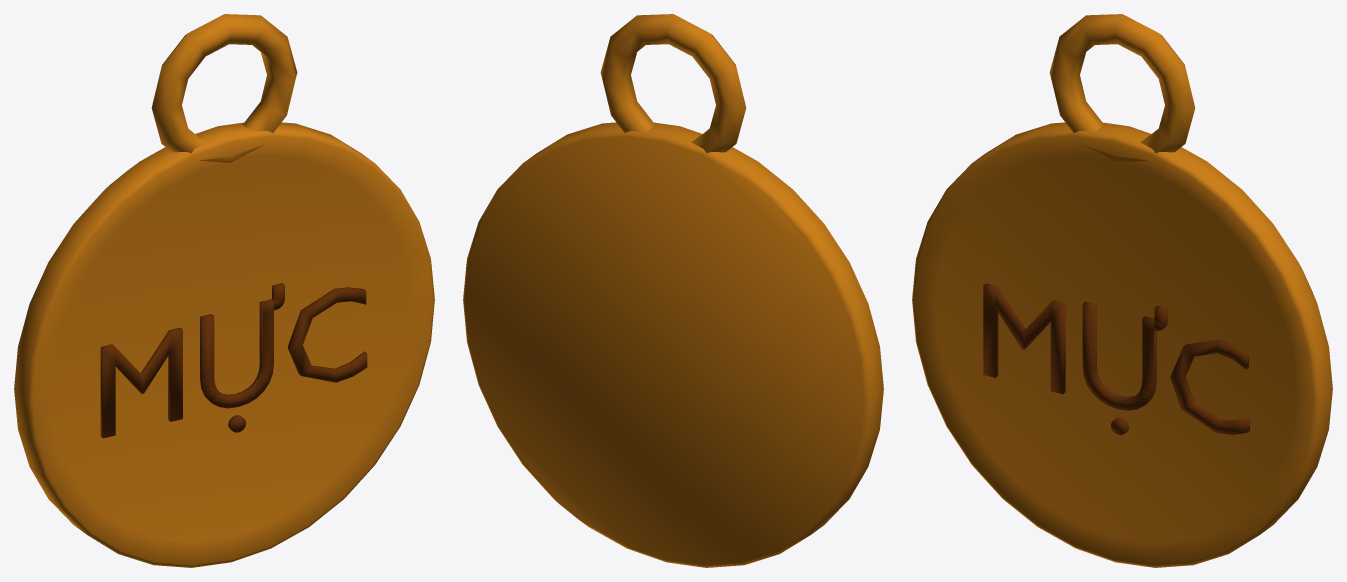
File: the_ten_muc.glb
The picture shows the model from 3 angles, left to right: view 1: azimuth 30°, elevation 25°; view 2: azimuth 150°, elevation 25°; view 3: azimuth 330°, elevation 25°; orthographic projection.
Parts seen in each view (by area): view 1: The_Ten_Muc; view 2: The_Ten_Muc; view 3: The_Ten_Muc.
Part boxes in pixels (x1,y1,x2,y2): The_Ten_Muc: (14,14,434,567); The_Ten_Muc: (463,14,883,567); The_Ten_Muc: (912,14,1332,567).
Bounding box in the file's own units: 0.052 × 0.0663 × 0.004.
